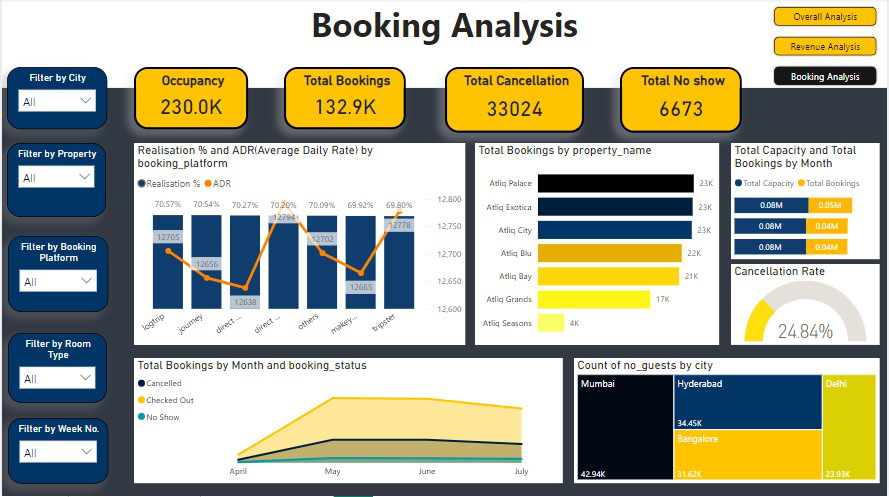

What the dashboard file says about the page in this screenshot:
{"tool":"powerbi","page":{"name":"Booking Analysis","canvas":[1280,720],"ordinal":2},"visuals":[{"type":"textbox","box":[0,0,1279.5,130.1],"z":0},{"type":"card","title":"Total Bookings","fields":{"Values":["BaseMeasures.Total Bookings"]},"box":[407.7,99.8,176.4,89.6],"z":1000},{"type":"card","title":"Total Cancellation","fields":{"Values":["BaseMeasures.Total Cancelled Booking"]},"box":[640.5,99.8,201,95.4],"z":2000},{"type":"slicer","title":"Filter by Booking Platform","fields":{"Values":["fact_bookings.booking_platform"]},"box":[8.6,344.6,144.6,110.2],"z":2000,"group":"g1"},{"type":"card","title":"Occupancy","fields":{"Values":["BaseMeasures.Total Capacity"]},"box":[190.8,99.8,164.8,89.6],"z":3000},{"type":"card","title":"Total No show","fields":{"Values":["BaseMeasures.Total no show bookings"]},"box":[893.5,99.8,176.4,95.4],"z":4000},{"type":"slicer","title":"Filter by Room Type","fields":{"Values":["dim_rooms.room_class"]},"box":[8.6,483.9,143.1,101],"z":4000,"group":"g1"},{"type":"group","id":"g1","title":"Group 1","box":[7.2,99.8,146,602.9],"z":5000},{"type":"lineClusteredColumnComboChart","title":"Realisation % and ADR(Average Daily Rate) by booking_platform","fields":{"Y":["BaseMeasures.Realisation %"],"Category":["fact_bookings.booking_platform"],"Y2":["BaseMeasures.ADR"]},"box":[190.8,209.6,478.6,292],"z":6000},{"type":"slicer","title":"Filter by Week No.","fields":{"Values":["dim_date.week no"]},"box":[8.6,607.8,144.6,94.9],"z":6000,"group":"g1"},{"type":"barChart","fields":{"Y":["BaseMeasures.Total Capacity","BaseMeasures.Total Bookings"],"Category":["dim_date.date.Variation.Date Hierarchy.Month"]},"box":[1054,209.6,215.4,167.7],"z":7000},{"type":"slicer","title":"Filter by City","fields":{"Values":["dim_hotels.city"]},"box":[7.2,99.8,144.6,90.3],"z":8000,"group":"g1"},{"type":"barChart","fields":{"Category":["dim_hotels.property_name"],"Y":["BaseMeasures.Total Bookings"]},"box":[683.9,209.6,352.8,292],"z":8000},{"type":"gauge","fields":{"Y":["BaseMeasures.Cancellation Rate"]},"box":[1054,384.6,215.4,117.1],"z":9000},{"type":"slicer","title":"Filter by Property ","fields":{"Values":["dim_hotels.property_name"]},"box":[7.2,210,143.1,107.1],"z":10000,"group":"g1"},{"type":"areaChart","fields":{"Y":["BaseMeasures.Total Bookings"],"Series":["fact_bookings.booking_status"],"Category":["fact_bookings.booking_date.Variation.Date Hierarchy.Month"]},"box":[191.5,520.7,619.8,181.4],"z":10000},{"type":"treemap","fields":{"Group":["dim_hotels.city"],"Values":["CountNonNull(fact_bookings.no_guests)"]},"box":[826.5,520.7,441.8,181.4],"z":11000},{"type":"pageNavigator","box":[1113.3,10.1,154.7,120],"z":12000}]}

Visuals, with their boxes in screenshot pixels (x1, y1, x2, y2), scaled from the page's 1280x720 canvas onto the 889x497 screenshot:
textbox: bbox(0, 0, 888, 90)
"Total Bookings" card: bbox(283, 69, 406, 131)
"Total Cancellation" card: bbox(445, 69, 584, 135)
"Filter by Booking Platform" slicer: bbox(6, 238, 106, 314)
"Occupancy" card: bbox(133, 69, 247, 131)
"Total No show" card: bbox(621, 69, 743, 135)
"Filter by Room Type" slicer: bbox(6, 334, 105, 404)
"Group 1" group: bbox(5, 69, 106, 485)
"Realisation % and ADR(Average Daily Rate) by booking_platform" lineClusteredColumnComboChart: bbox(133, 145, 465, 346)
"Filter by Week No." slicer: bbox(6, 420, 106, 485)
barChart - BaseMeasures.Total Capacity x BaseMeasures.Total Bookings: bbox(732, 145, 882, 260)
"Filter by City" slicer: bbox(5, 69, 105, 131)
barChart - dim_hotels.property_name x BaseMeasures.Total Bookings: bbox(475, 145, 720, 346)
gauge - BaseMeasures.Cancellation Rate: bbox(732, 265, 882, 346)
"Filter by Property " slicer: bbox(5, 145, 104, 219)
areaChart - BaseMeasures.Total Bookings x fact_bookings.booking_status: bbox(133, 359, 563, 485)
treemap - dim_hotels.city x CountNonNull(fact_bookings.no_guests): bbox(574, 359, 881, 485)
pageNavigator: bbox(773, 7, 881, 90)
